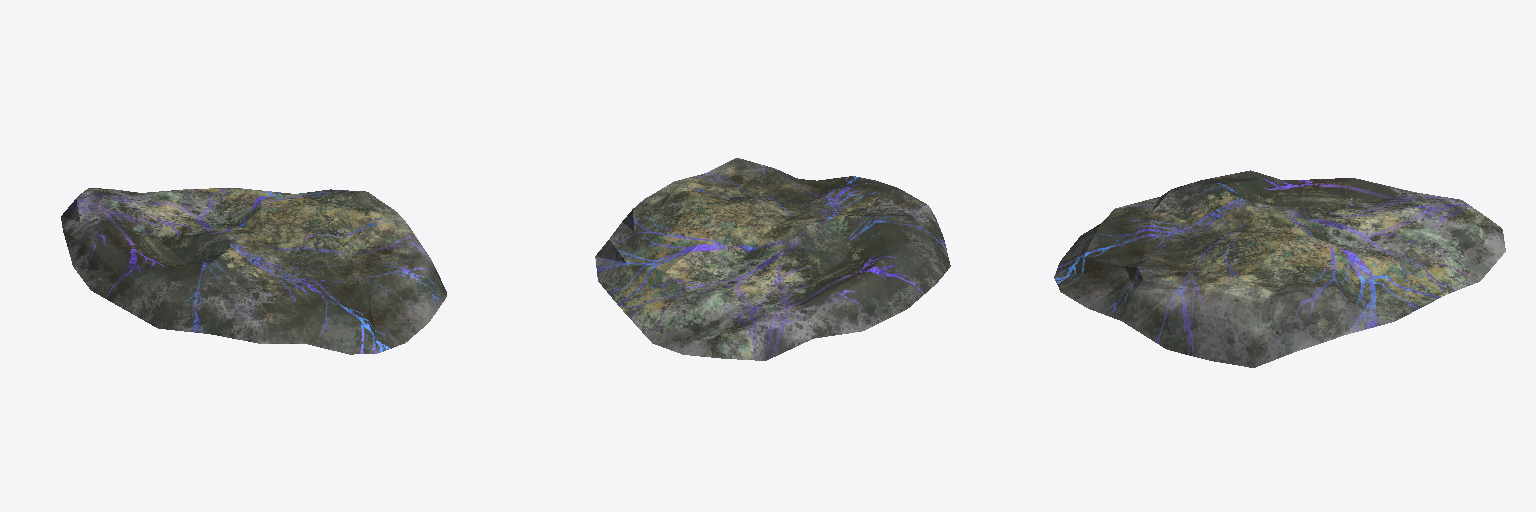
The picture shows the model from 3 angles: view 1: azimuth 30°, elevation 25°; view 2: azimuth 150°, elevation 25°; view 3: azimuth 270°, elevation 25°; orthographic projection.
Visible parts, largest first — view 1: Model_Mold_04; view 2: Model_Mold_04; view 3: Model_Mold_04.
Boxes of the visible parts, x1,y1,x2,y2 form: Model_Mold_04: [61, 188, 446, 354]; Model_Mold_04: [595, 158, 950, 360]; Model_Mold_04: [1054, 170, 1505, 367].
Bounding box in the file's own units: 1.45 × 0.3335 × 1.85.
Materials: 1 (1 with a texture image).